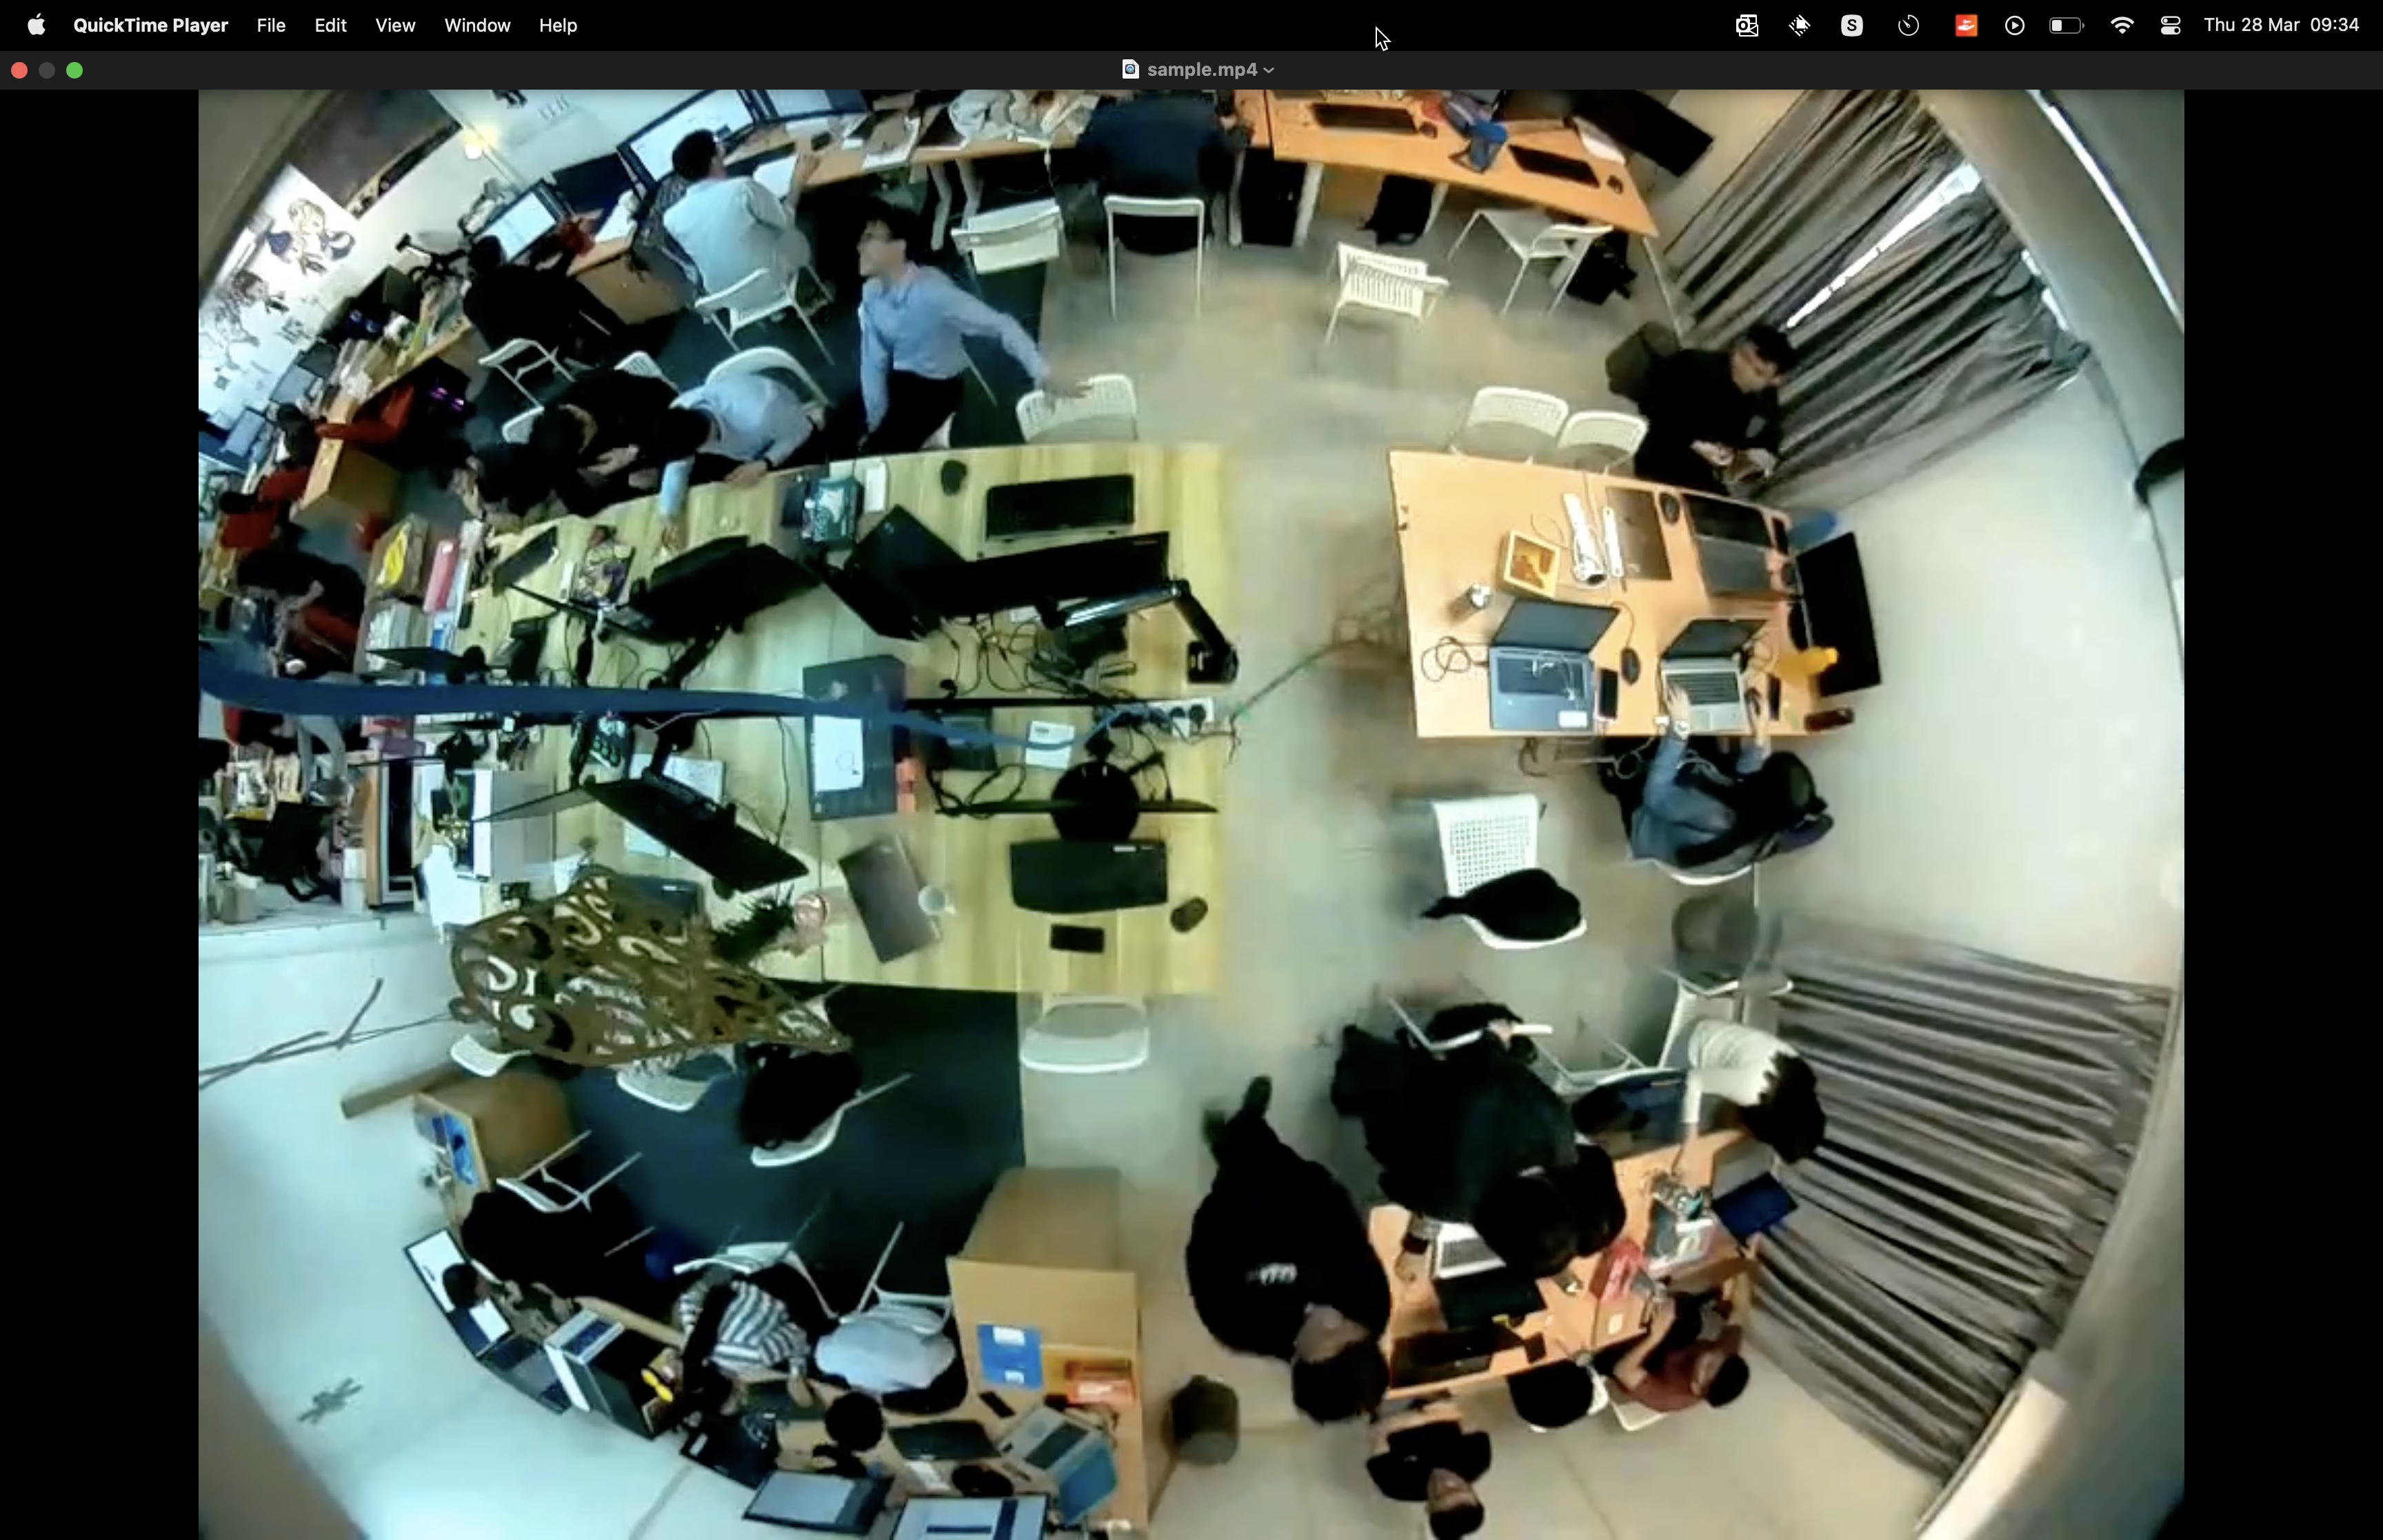Staff: (1158, 1082, 1410, 1422)
